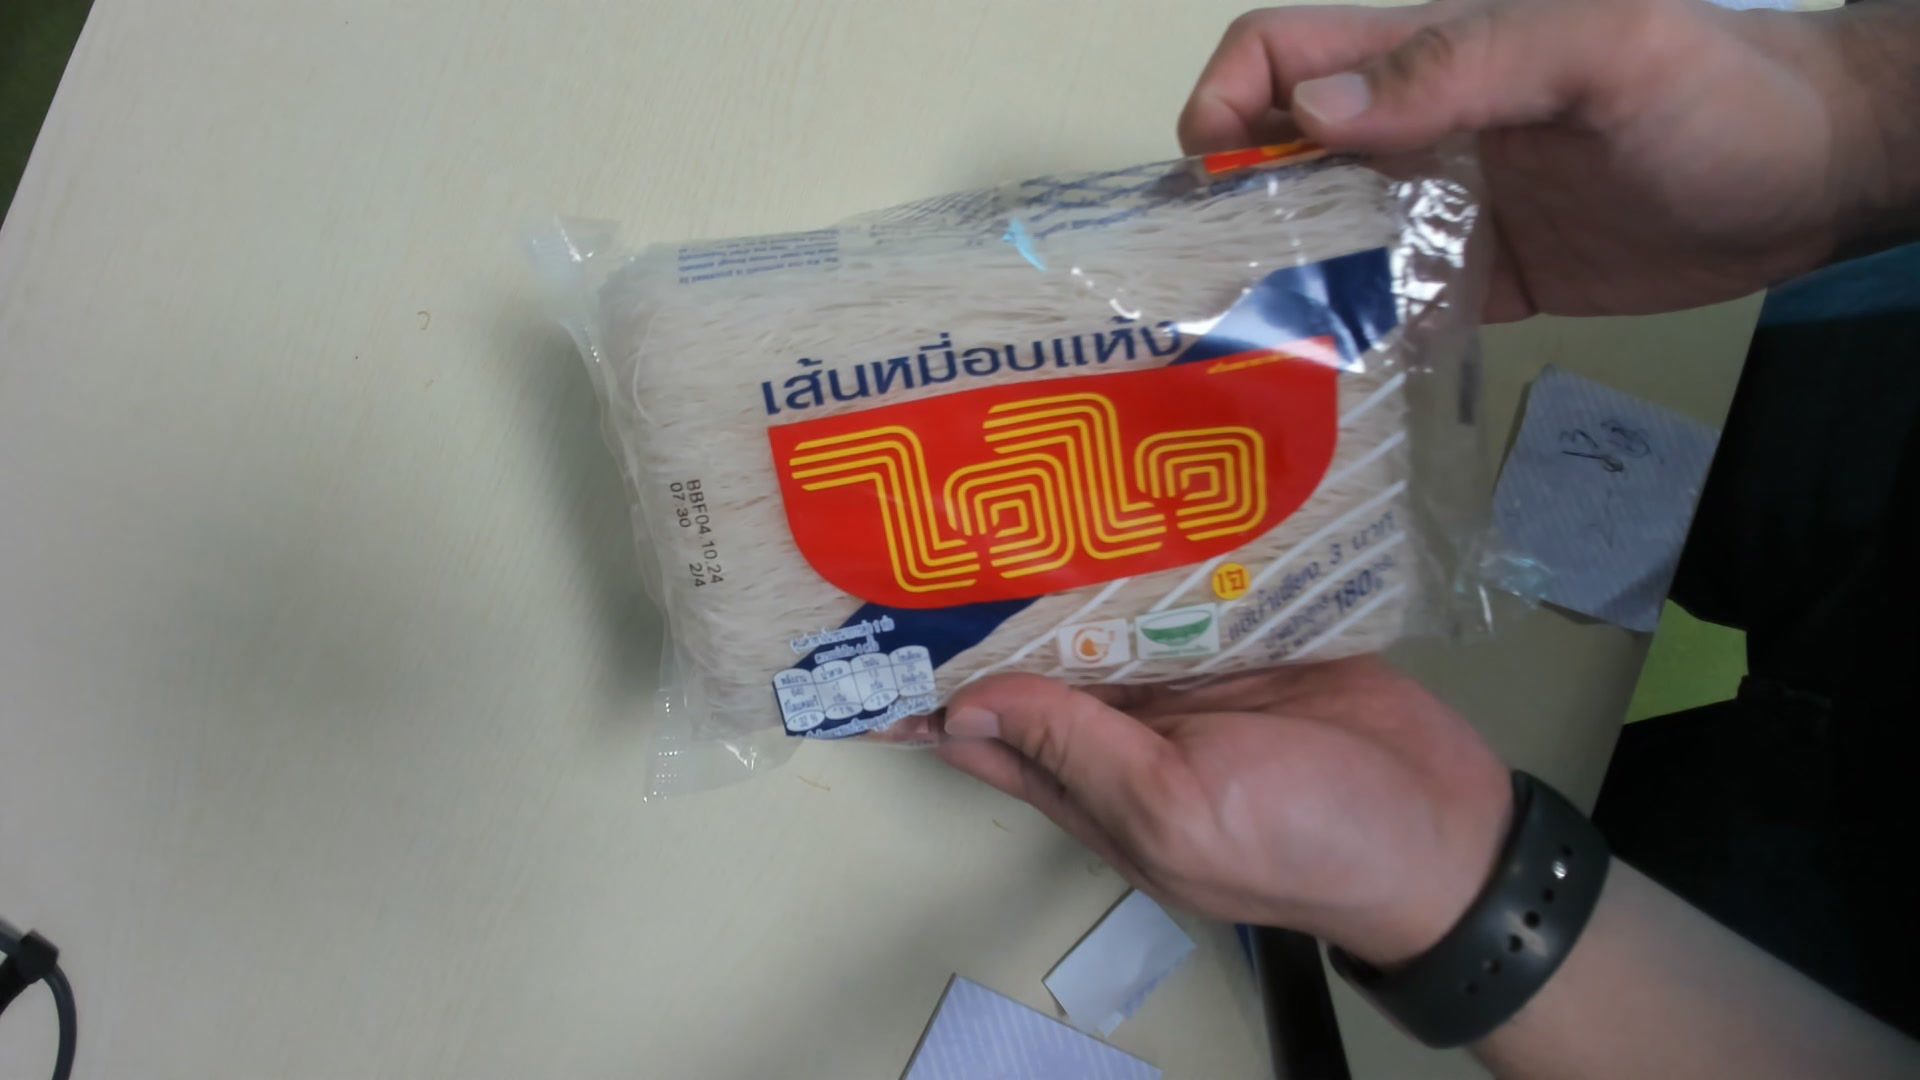BeeHoonVermicelli_100-199g_NonHalal_NonHealthy: (560, 146, 1513, 738)
